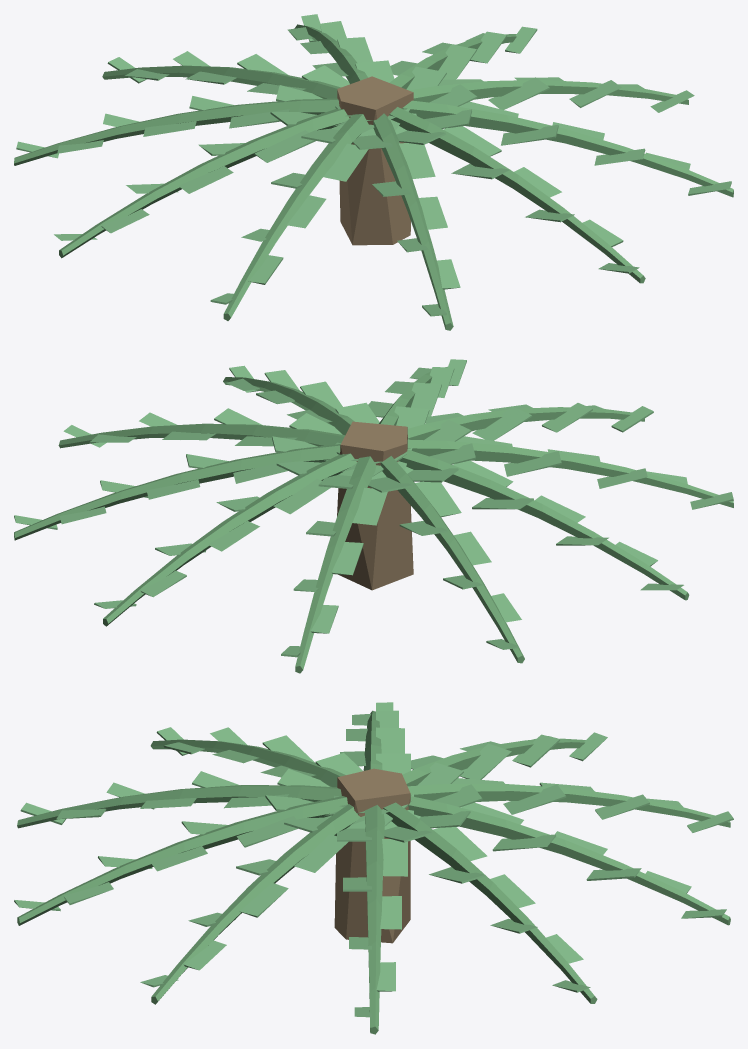
File: 50-Vegetacion_helecho_gigante.glb
3 renders of one model, top to bottom at view 1: azimuth 30°, elevation 25°; view 2: azimuth 150°, elevation 25°; view 3: azimuth 270°, elevation 25°, orthographic. The views are drawn at different scales.
Visible parts, largest first — view 1: SM_Helecho_M_Helecho_Hoja, SM_Helecho_M_Helecho_Tallo, SM_Helecho_M_Helecho_Tronco; view 2: SM_Helecho_M_Helecho_Hoja, SM_Helecho_M_Helecho_Tallo, SM_Helecho_M_Helecho_Tronco; view 3: SM_Helecho_M_Helecho_Hoja, SM_Helecho_M_Helecho_Tallo, SM_Helecho_M_Helecho_Tronco.
Part boxes in pixels (x1,y1,x2,y2): SM_Helecho_M_Helecho_Hoja: [16, 14, 731, 316]; SM_Helecho_M_Helecho_Tallo: [14, 24, 733, 330]; SM_Helecho_M_Helecho_Tronco: [337, 76, 413, 245]; SM_Helecho_M_Helecho_Hoja: [14, 359, 733, 657]; SM_Helecho_M_Helecho_Tallo: [14, 366, 733, 673]; SM_Helecho_M_Helecho_Tronco: [337, 421, 413, 590]; SM_Helecho_M_Helecho_Hoja: [14, 702, 733, 1017]; SM_Helecho_M_Helecho_Tallo: [17, 710, 730, 1034]; SM_Helecho_M_Helecho_Tronco: [334, 768, 410, 943].
Size of the model in its own units: 11.88 by 2.5 by 11.44.
